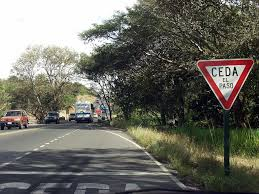yield_sign: (194, 58, 255, 113)
